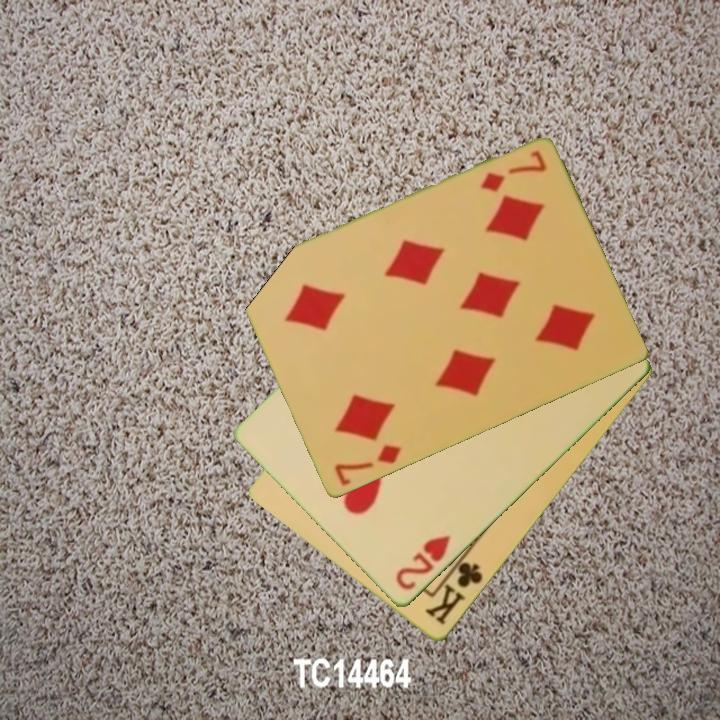2h: (392, 531, 454, 594)
7d: (330, 441, 404, 490), (476, 147, 549, 196)
Kc: (421, 549, 486, 629)
